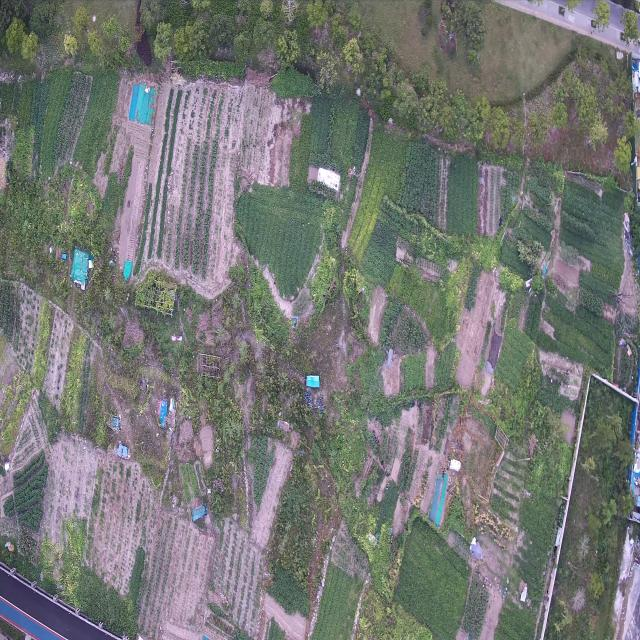UAV: (379, 343, 401, 379)
